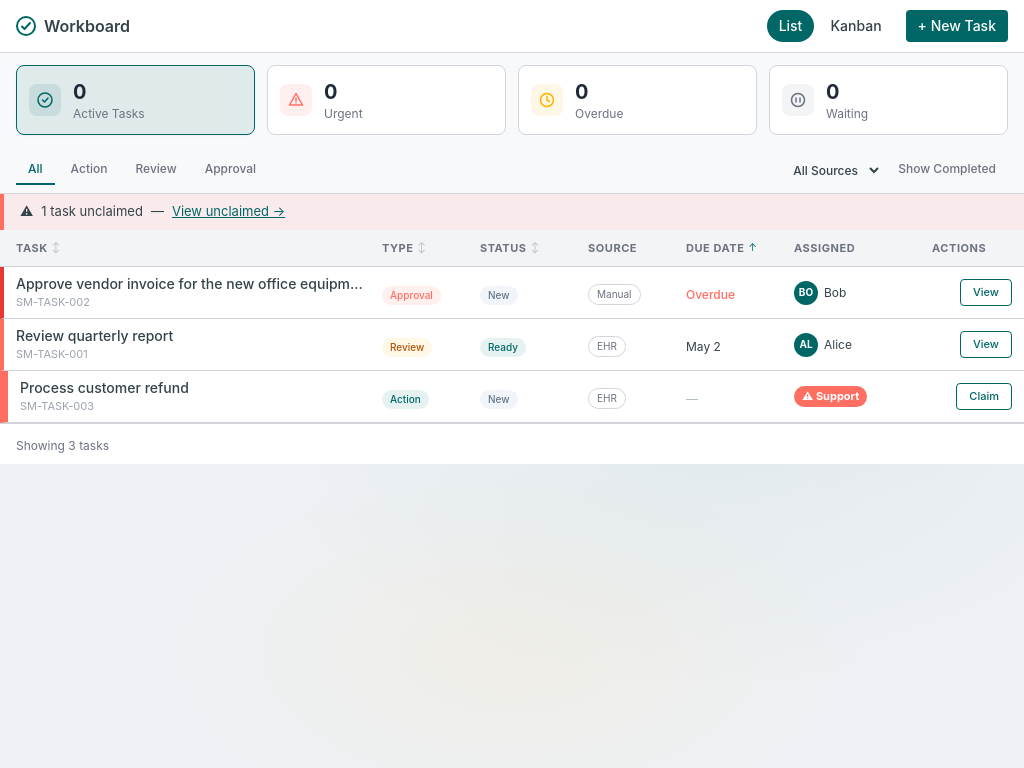
Scenario: WorkboardMojo › shows "already claimed" toast on 409 response
This screenshot has width=1024, height=768.
Expected: the number of elements with test id "task-row" is 3, [0,267,1023,319]; [0,319,1023,371]; [0,371,1023,423]
Click the button with test id "claim-button".
click(984, 397)  # box [956,383,1012,410]
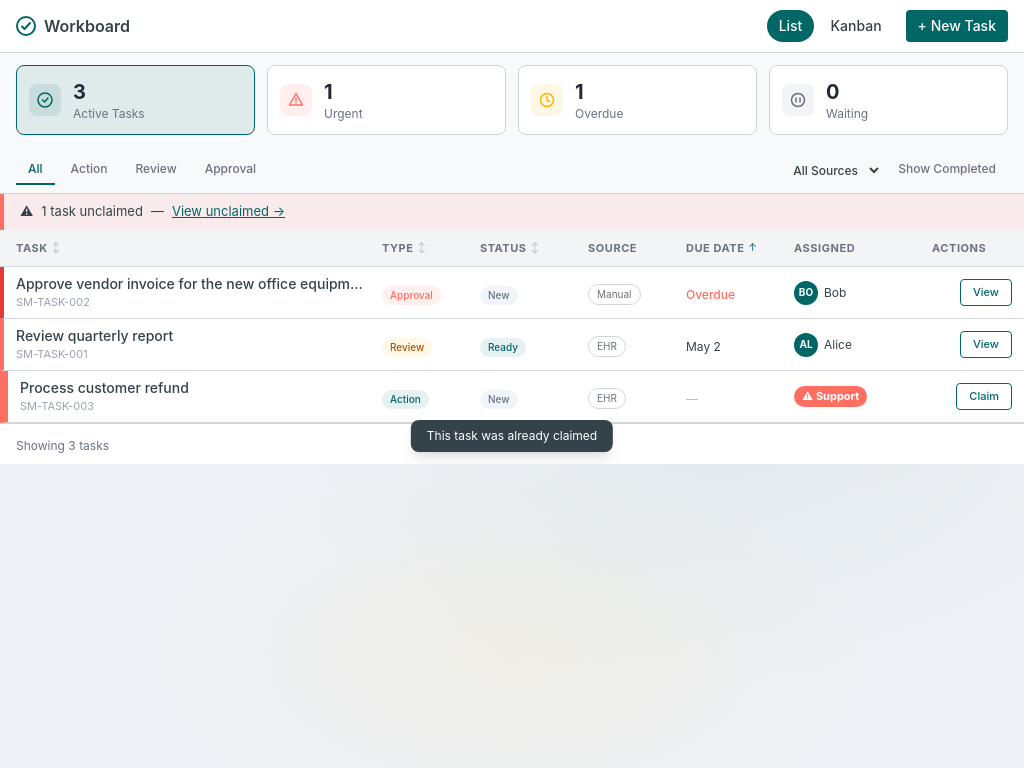
Result: the text "This task was already claimed" is shown at [411,420,613,452]
